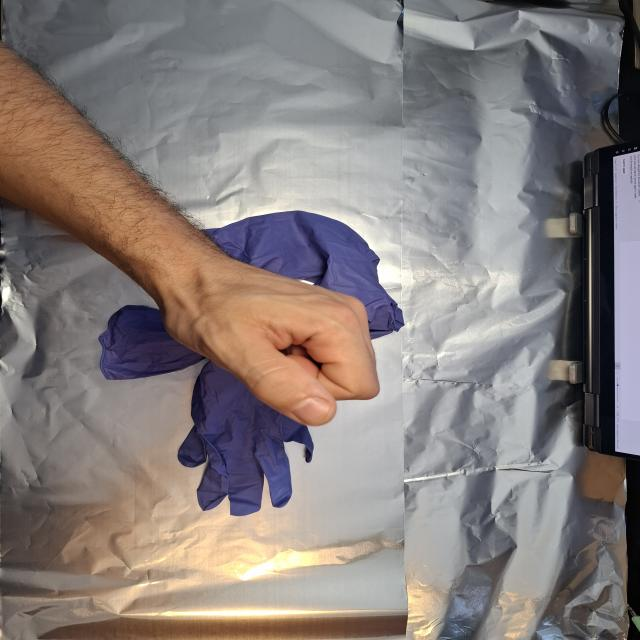glove_off: (158, 257, 382, 428)
